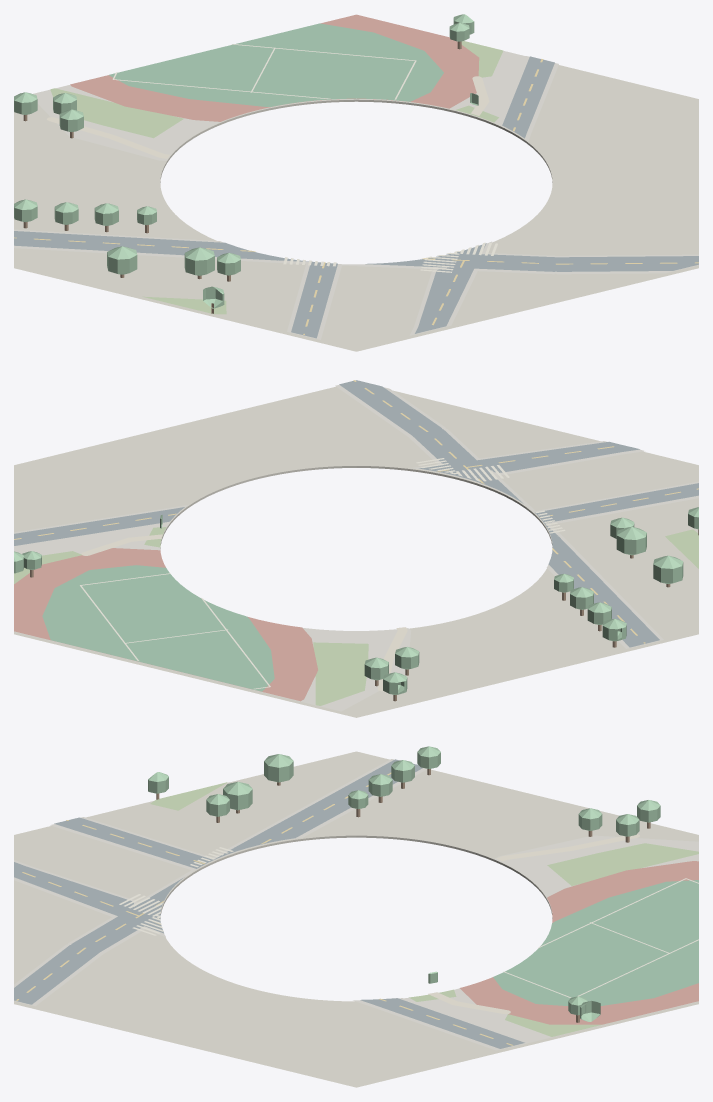
Rendered from surround-X2.glb.
3 renders of one model, top to bottom at view 1: azimuth 30°, elevation 25°; view 2: azimuth 150°, elevation 25°; view 3: azimuth 270°, elevation 25°, orthographic.
Visible parts, largest first — view 1: X2_ground, X2_sportsgrass, X2_road, X2_paving, X2_track, X2_leaf, X2_lawn, X2_white, X2_path, X2_yellow; view 2: X2_ground, X2_sportsgrass, X2_road, X2_paving, X2_track, X2_leaf, X2_lawn, X2_white, X2_path, X2_yellow; view 3: X2_ground, X2_sportsgrass, X2_road, X2_paving, X2_track, X2_leaf, X2_lawn, X2_white, X2_path, X2_yellow.
Part boxes in pixels (x1,y1,x2,y2): X2_ground: (14,65,698,351); X2_sportsgrass: (109,23,443,106); X2_road: (14,56,698,338); X2_paving: (14,51,698,339); X2_track: (70,14,479,121); X2_leaf: (14,14,478,308); X2_lawn: (50,41,503,314); X2_white: (112,44,497,272); X2_path: (47,76,489,158); X2_yellow: (14,59,698,334); X2_ground: (14,386,698,717); X2_sportsgrass: (42,565,274,691); X2_road: (14,380,698,647); X2_paving: (14,385,698,711); X2_track: (14,548,317,701); X2_leaf: (14,507,698,694); X2_lawn: (14,527,698,705); X2_white: (80,458,565,689); X2_path: (81,534,407,691); X2_yellow: (14,380,698,643); X2_ground: (14,751,698,1087); X2_sportsgrass: (493,880,698,1005); X2_road: (14,759,524,1048); X2_paving: (14,759,698,1050); X2_track: (460,861,698,1024); X2_leaf: (148,746,660,1021); X2_lawn: (150,782,698,1036); X2_white: (119,847,698,997); X2_path: (428,834,639,1014); X2_yellow: (16,772,513,1045).
Bounding box in the file's own units: 16.16 × 0.7535 × 14.
